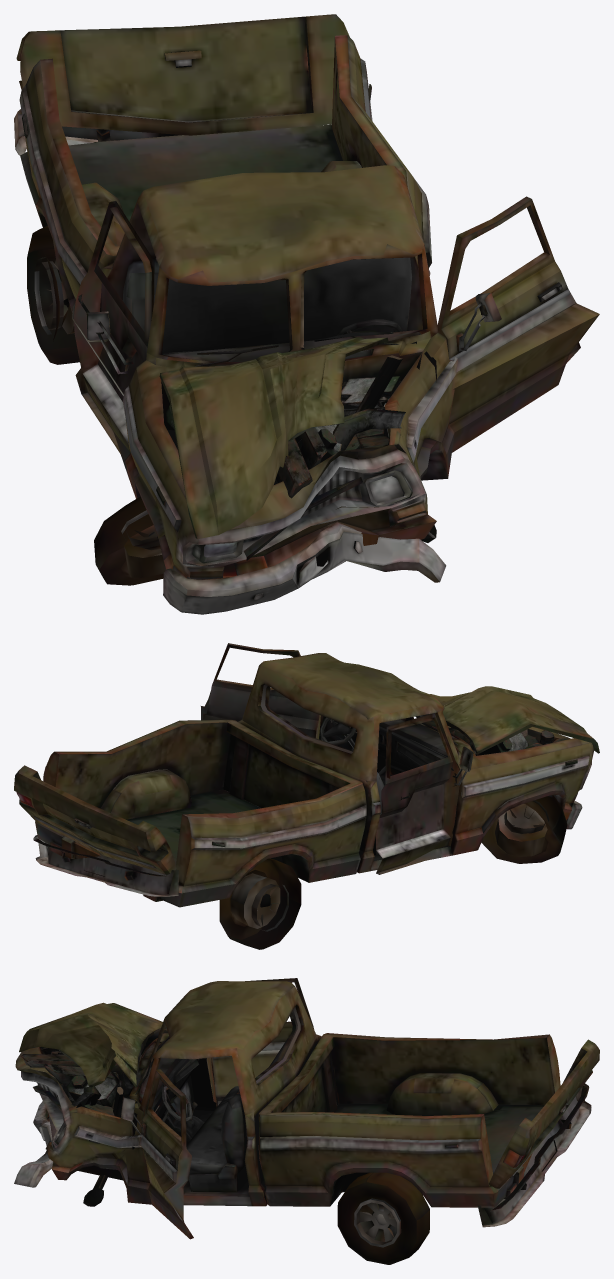
Rendered from camion.glb.
The picture shows the model from 3 angles, top to bottom: view 1: azimuth 30°, elevation 25°; view 2: azimuth 150°, elevation 25°; view 3: azimuth 270°, elevation 25°; orthographic projection. The views are drawn at different scales.
Visible parts, largest first — view 1: Object_4, Object_6; view 2: Object_4, Object_6; view 3: Object_4, Object_6.
Boxes of the visible parts, bbox=[...] form: Object_4: bbox=[16, 14, 599, 579]; Object_6: bbox=[14, 109, 446, 614]; Object_4: bbox=[14, 643, 593, 907]; Object_6: bbox=[16, 686, 599, 949]; Object_4: bbox=[15, 978, 599, 1239]; Object_6: bbox=[14, 1002, 591, 1264].
Bounding box in the file's own units: 22.19 × 11.03 × 31.23.
Materials: 1 (1 with a texture image).
